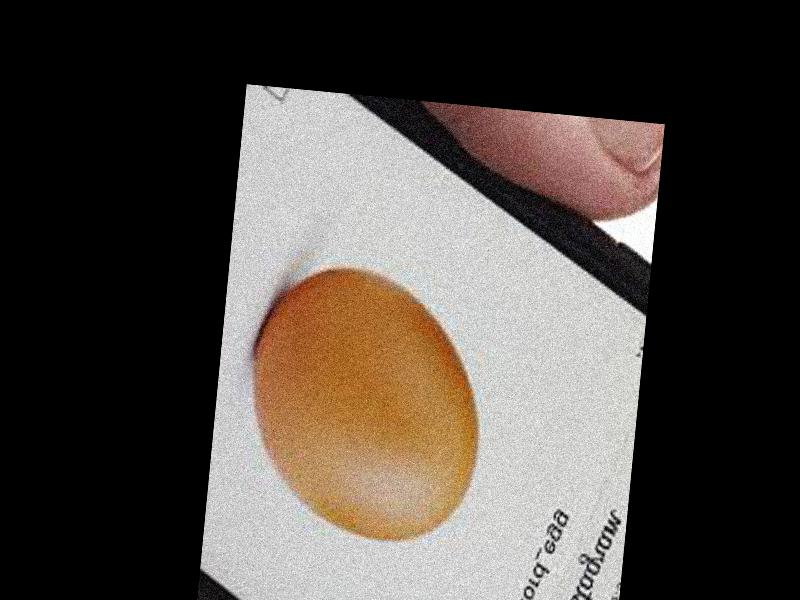Eggs: (239, 260, 493, 547)
